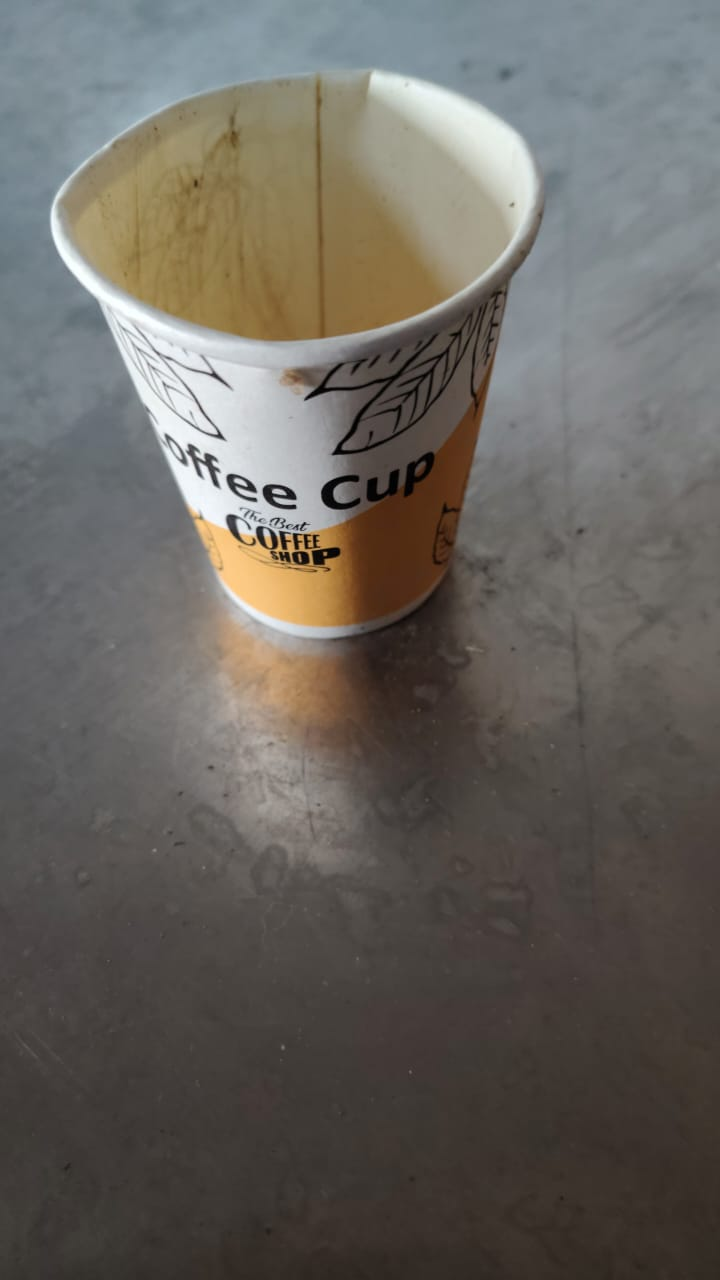Carton: (52, 68, 546, 641)
